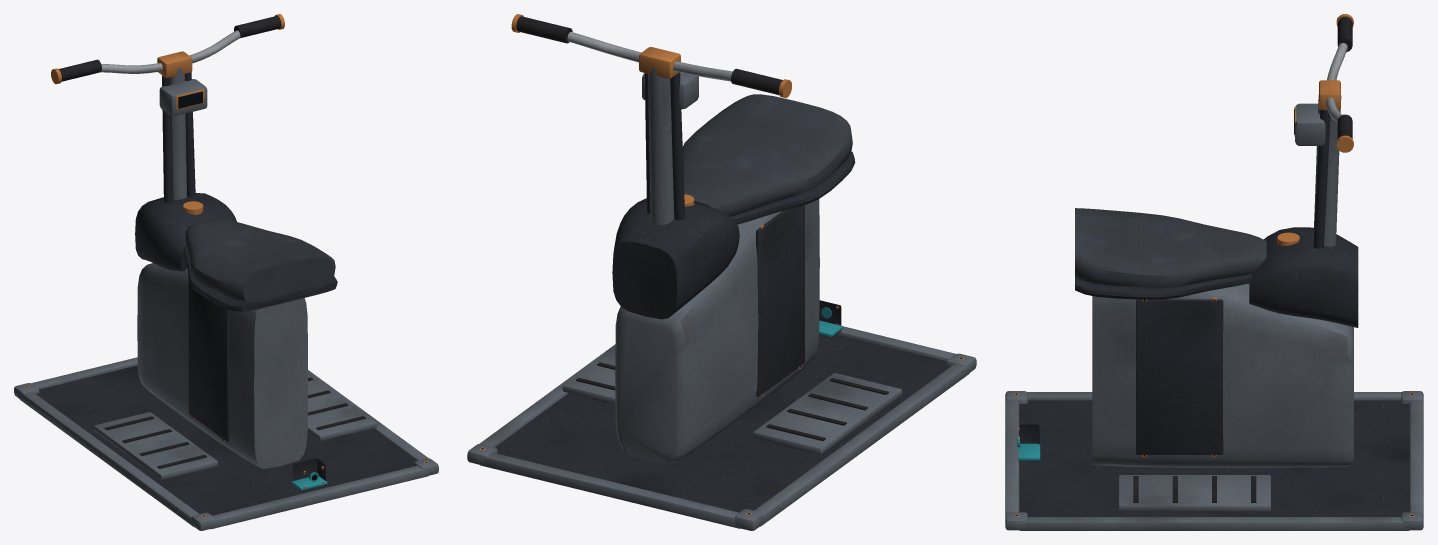
File: drivers_saddle_1.glb
The picture shows the model from 3 angles, left to right: view 1: azimuth 30°, elevation 25°; view 2: azimuth 150°, elevation 25°; view 3: azimuth 270°, elevation 25°; orthographic projection. The views are drawn at different scales.
Parts seen in each view (by area): view 1: Base, Cushion, SaddlePan; view 2: Base, Cushion, SaddlePan; view 3: Base, Cushion, SaddlePan.
Boxes of the visible parts, x1,y1,x2,y2 form: Base: [14, 14, 438, 530]; Cushion: [185, 219, 335, 303]; SaddlePan: [183, 245, 337, 311]; Base: [467, 14, 976, 530]; Cushion: [682, 94, 852, 216]; SaddlePan: [730, 151, 855, 224]; Base: [1005, 14, 1423, 530]; Cushion: [1075, 208, 1266, 288]; SaddlePan: [1075, 273, 1252, 299].
Bounding box in the file's own units: 0.71 × 0.9895 × 0.96.
9 materials, 6 textured.
